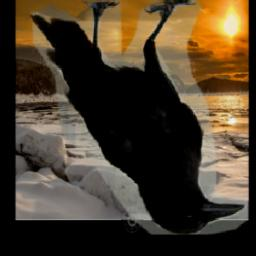Crow: (31, 0, 249, 236)
